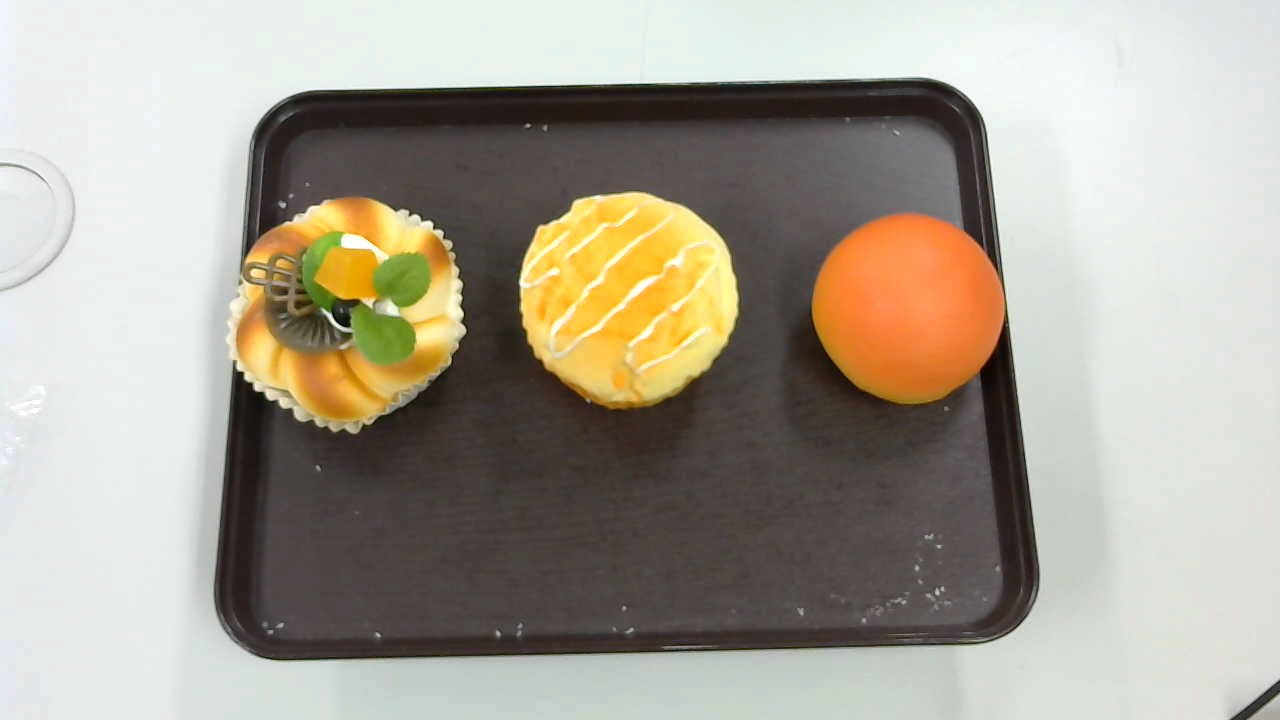bun: (812, 211, 1006, 402)
cupcake: (519, 192, 740, 410)
fruit tart: (226, 195, 467, 438)
